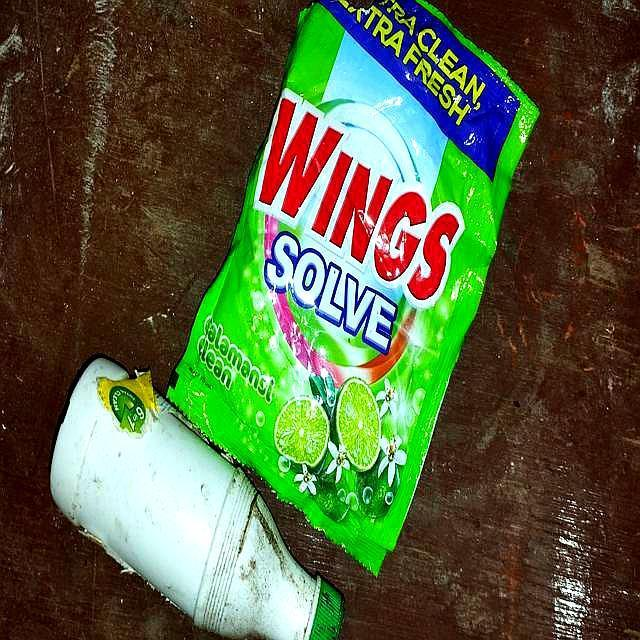Non-biodegradable: (164, 1, 548, 586), (42, 335, 350, 640)
